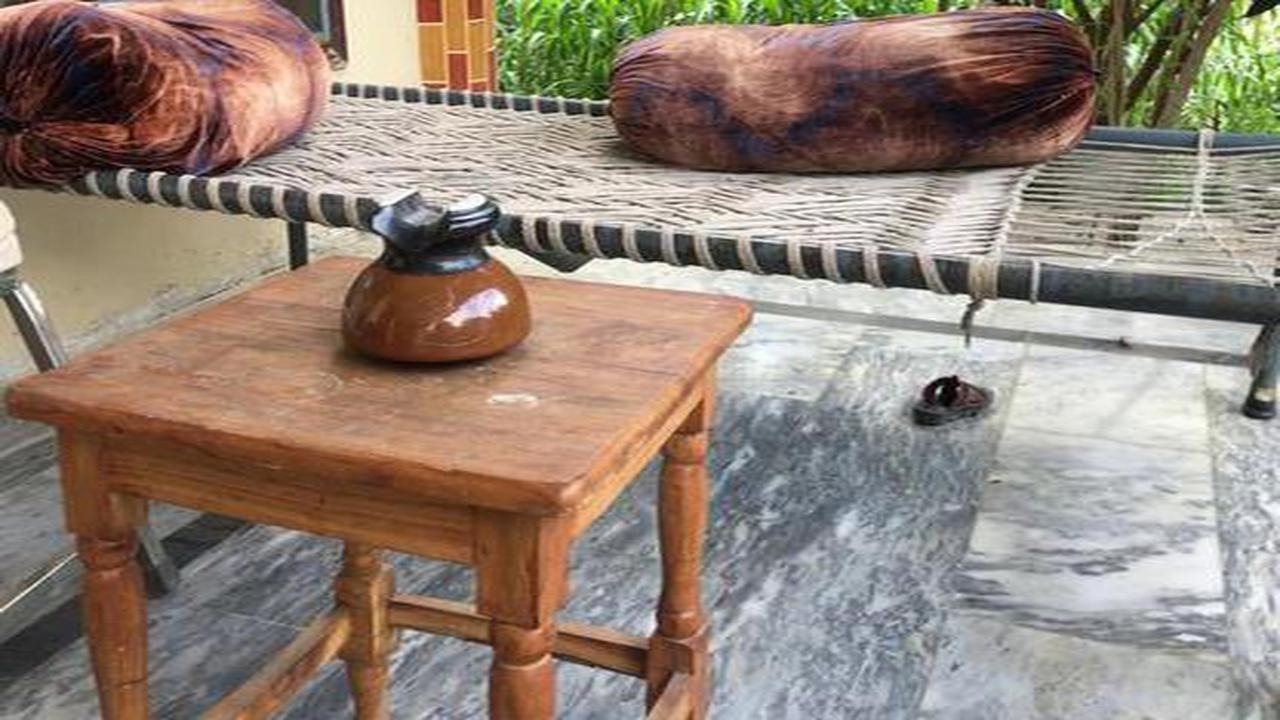insulator_pin: (311, 167, 557, 378)
